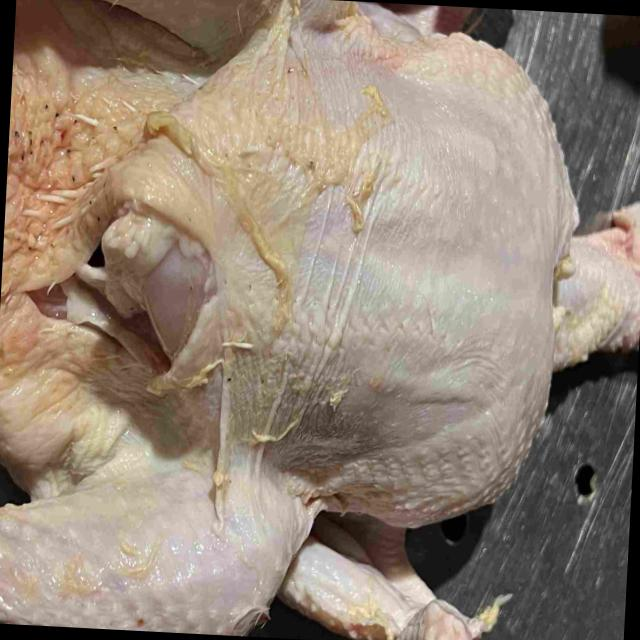breast: (118, 24, 575, 521)
leg: (0, 429, 319, 637), (44, 0, 352, 61)
neck: (559, 217, 640, 380)
wing: (284, 522, 507, 640)
